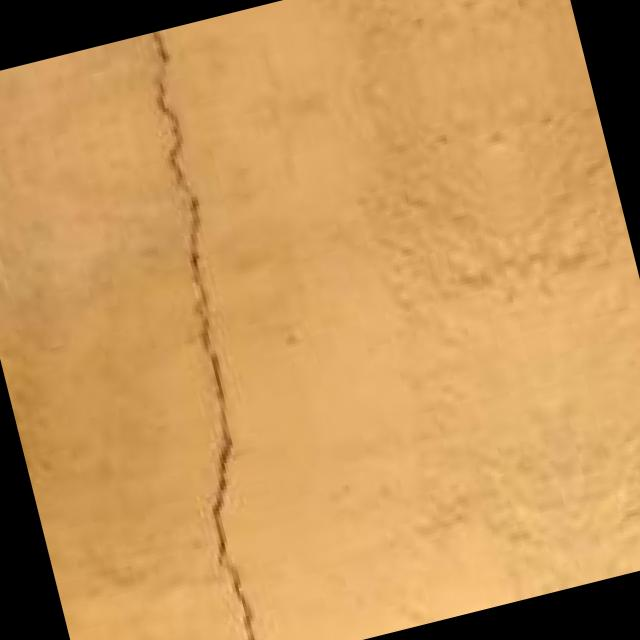crack: (56, 23, 341, 640)
